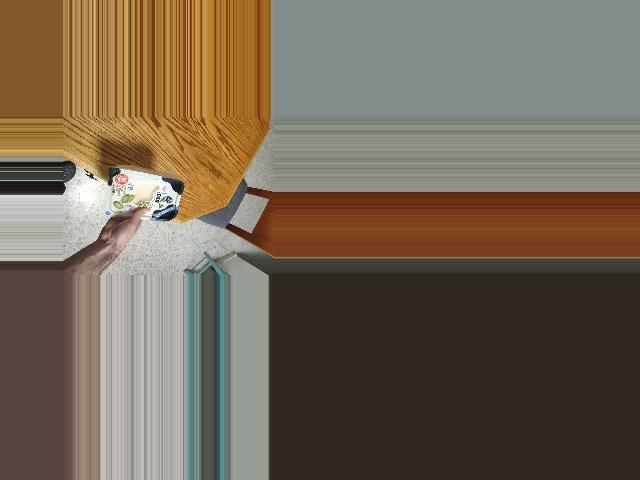cheese: (106, 165, 183, 223)
